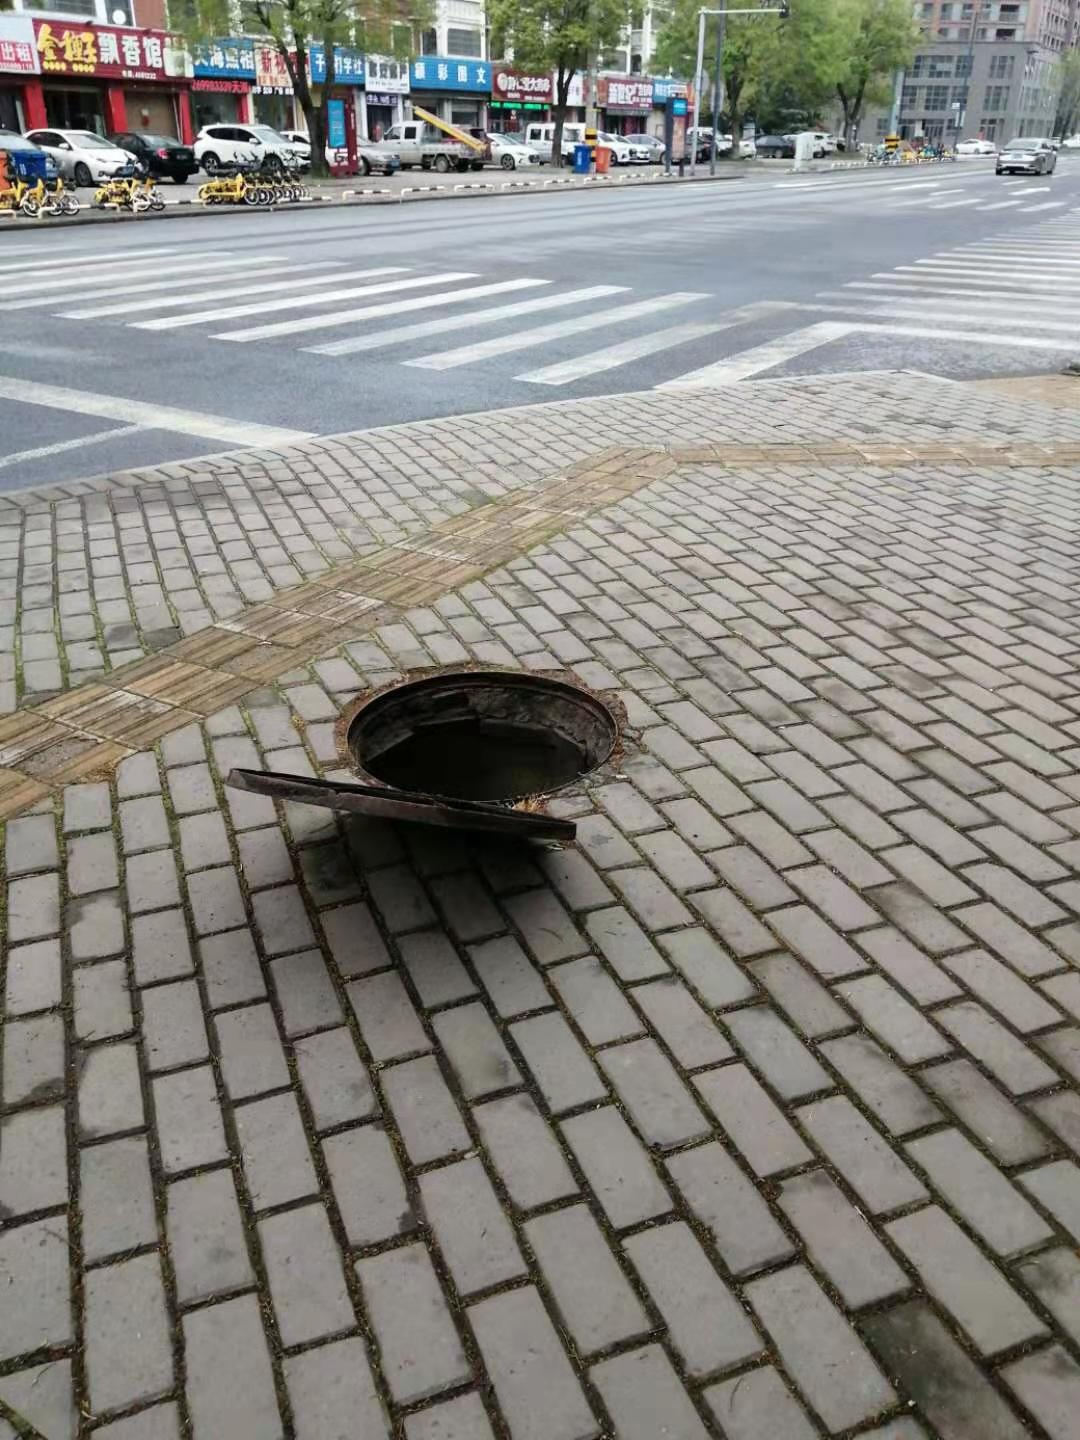uncovered: (222, 666, 633, 858)
